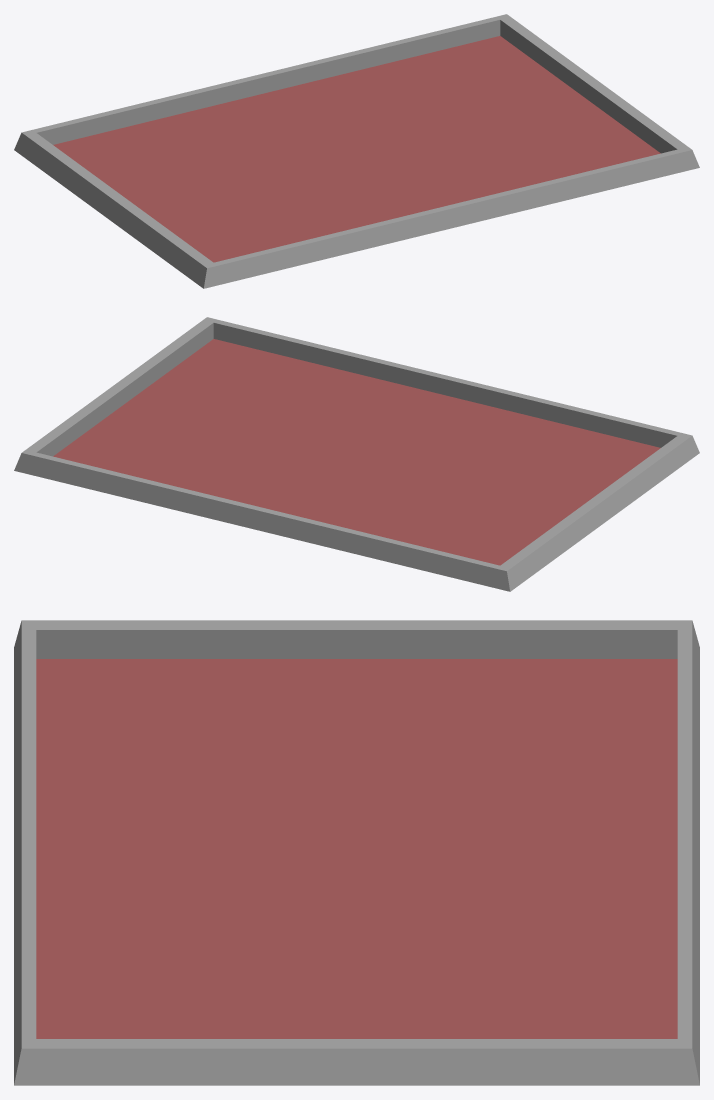
File: cuadro.fbx
3 views of the same model, one above another, from view 1: azimuth 30°, elevation 25°; view 2: azimuth 150°, elevation 25°; view 3: azimuth 270°, elevation 25° (orthographic). The views are drawn at different scales.
Visible parts, largest first — view 1: pCube1; view 2: pCube1; view 3: pCube1.
Boxes of the visible parts, left/top/right/bottom form: pCube1: left=14, top=14, right=699, bottom=288; pCube1: left=14, top=317, right=699, bottom=591; pCube1: left=14, top=620, right=699, bottom=1085.
Size of the model in its own units: 151 by 5.16 by 100.
